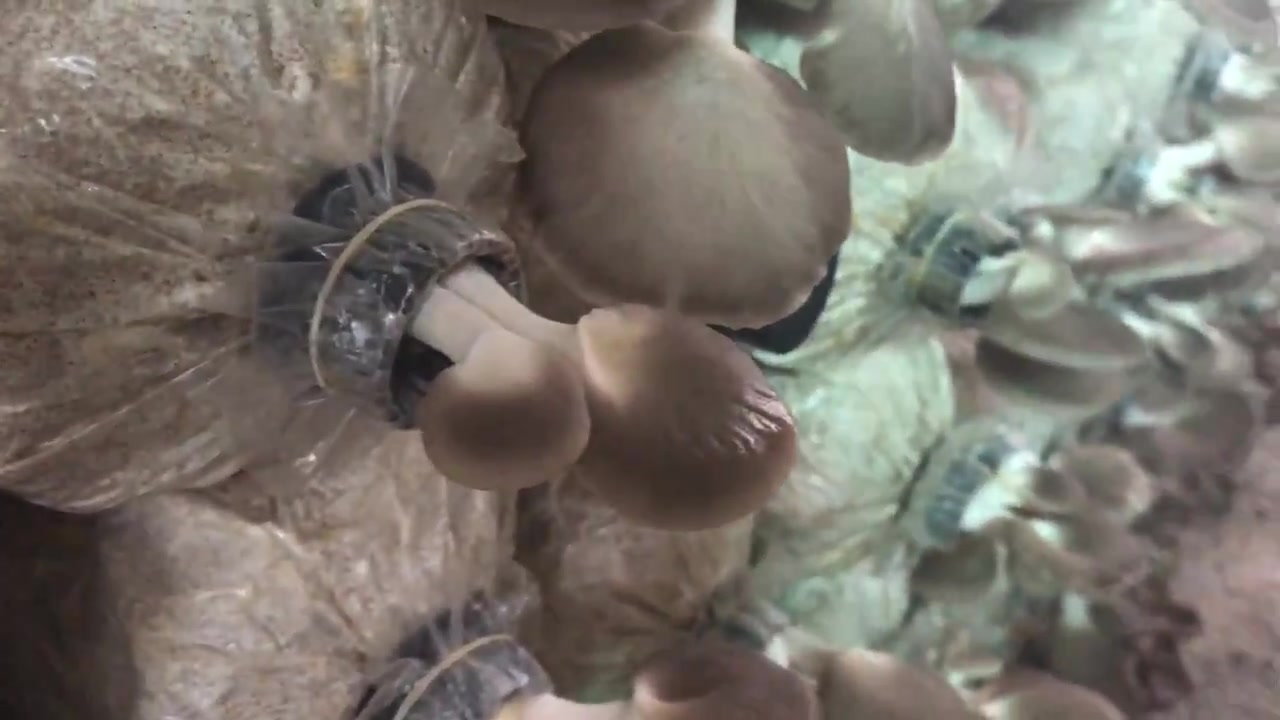nam: (309, 189, 805, 537), (469, 1, 956, 325), (909, 198, 1243, 413), (382, 612, 813, 720), (732, 607, 1120, 720), (910, 431, 1156, 606)
